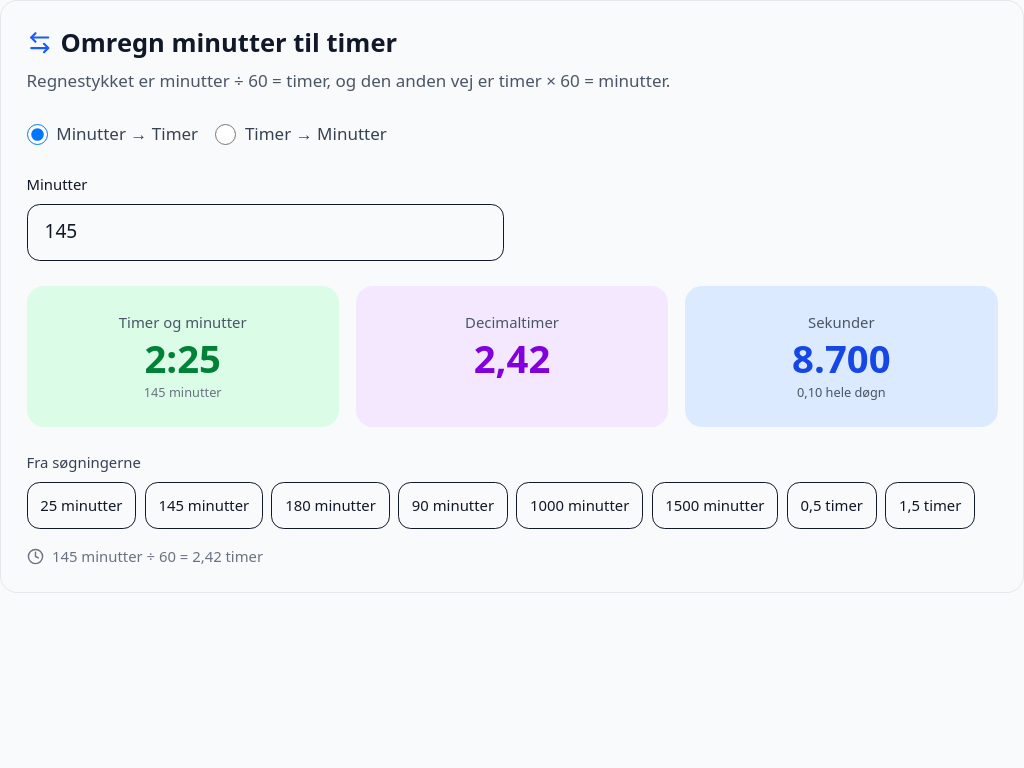
Scenario: MinutterTilTimerBeregner › et tomt felt siger, hvad der mangler, i stedet for at vise NaN
Clear the field labelled "Minutter" at (265, 232), box [26, 204, 504, 261]
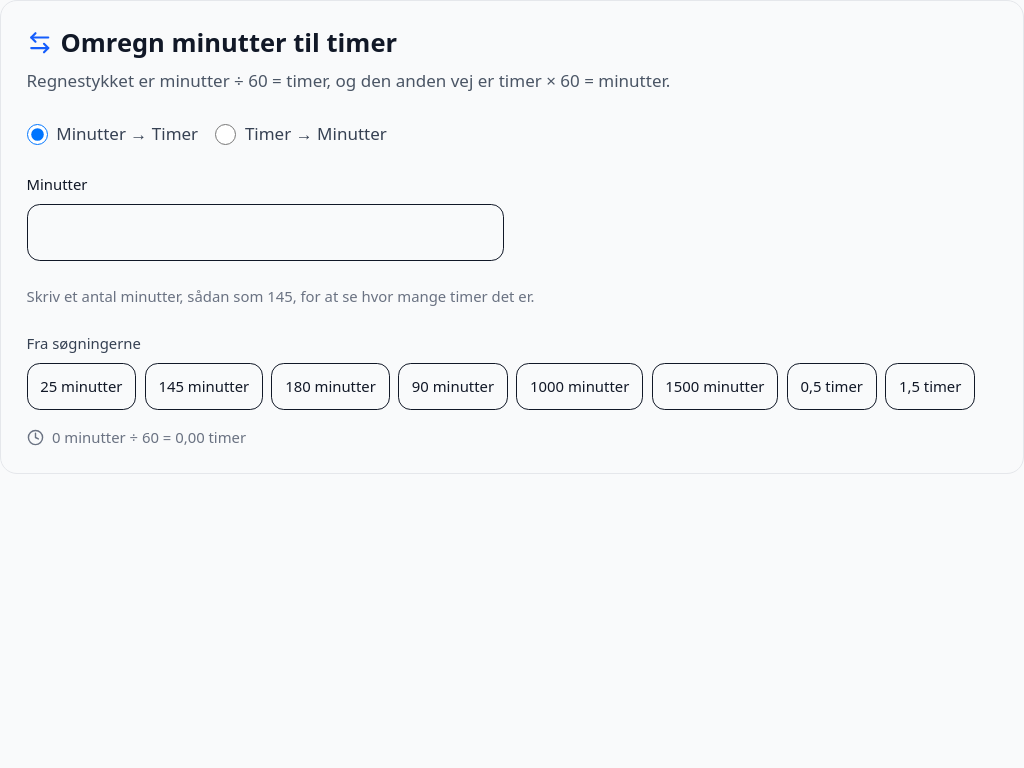
Result: the text "Skriv et antal minutter" is shown at [26, 286, 534, 306]
